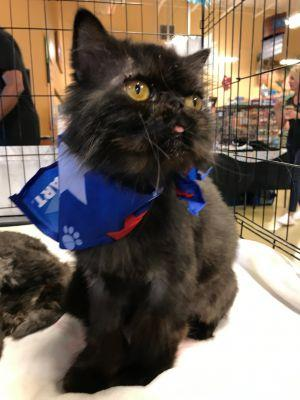persian: (45, 1, 227, 198)
